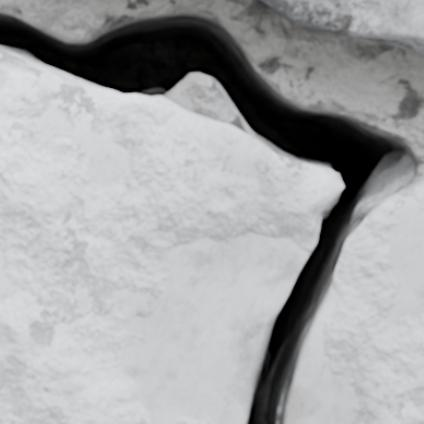brick: (263, 0, 423, 55)
broken_brick: (0, 58, 340, 423), (287, 178, 423, 423)
crack: (0, 0, 421, 423)
